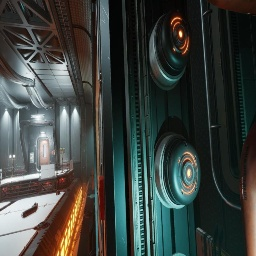EmergencyPhone ,: (53, 149, 55, 154)
FireAlarm ,: (99, 175, 105, 220), (52, 151, 53, 154)
FirstAidBox ,: (32, 202, 38, 209), (56, 189, 60, 195)
NitrogenTank ,: (22, 206, 37, 218)
SafetySwitchPanel ,: (90, 167, 95, 190), (30, 152, 34, 163)
